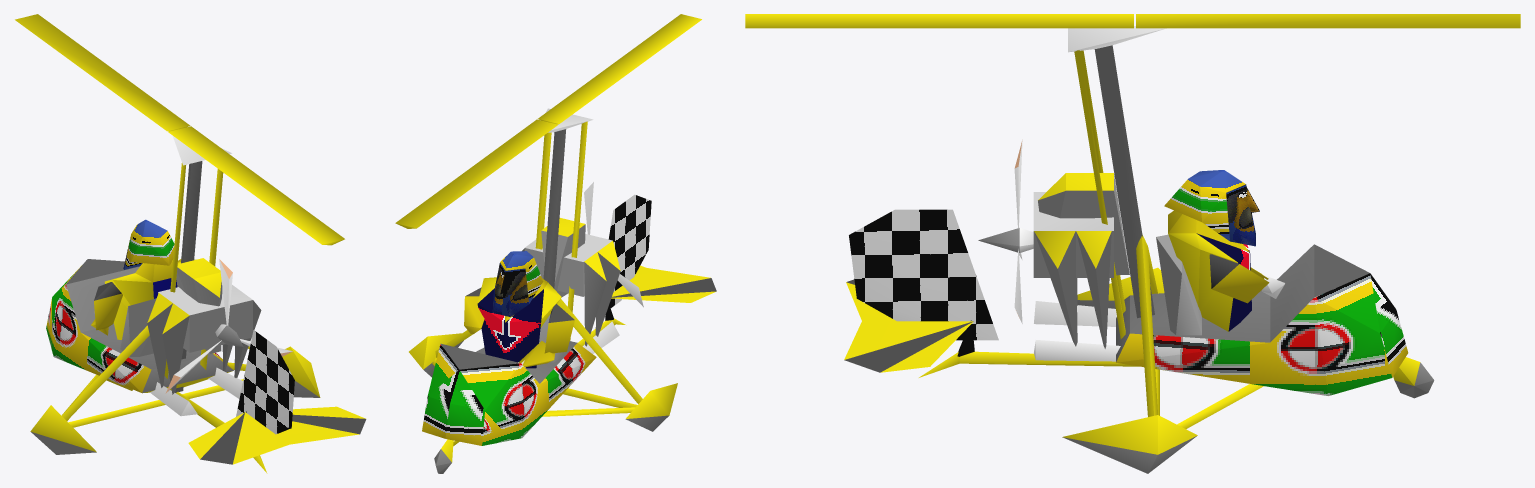
File: uvmd-0308.glb
3 views of the same model, side by side, from view 1: azimuth 30°, elevation 25°; view 2: azimuth 150°, elevation 25°; view 3: azimuth 270°, elevation 25° (orthographic). The views are drawn at different scales.
Visible parts, largest first — view 1: part-00, part-01, part-04, part-03, part-05, part-02; view 2: part-00, part-01, part-03, part-04, part-05, part-06, part-02; view 3: part-00, part-03, part-01, part-04, part-05, part-06.
Part boxes in pixels (x1,y1,x2,y2): part-00: (30,136,320,473); part-01: (15,14,344,245); part-04: (188,406,366,464); part-03: (236,330,294,434); part-05: (123,219,174,269); part-02: (165,259,292,393); part-00: (409,108,677,473); part-01: (395,14,701,228); part-03: (608,194,651,307); part-04: (611,265,716,302); part-05: (492,251,543,316); part-06: (464,287,484,333); part-02: (584,182,643,307); part-00: (919,26,1434,473); part-03: (849,209,998,340); part-01: (745,14,1520,28); part-04: (844,279,973,372); part-05: (1164,170,1259,246); part-06: (1209,254,1269,303).
Bounding box in the file's own units: 204 × 209 × 387.
Materials: 14 (14 with a texture image).
